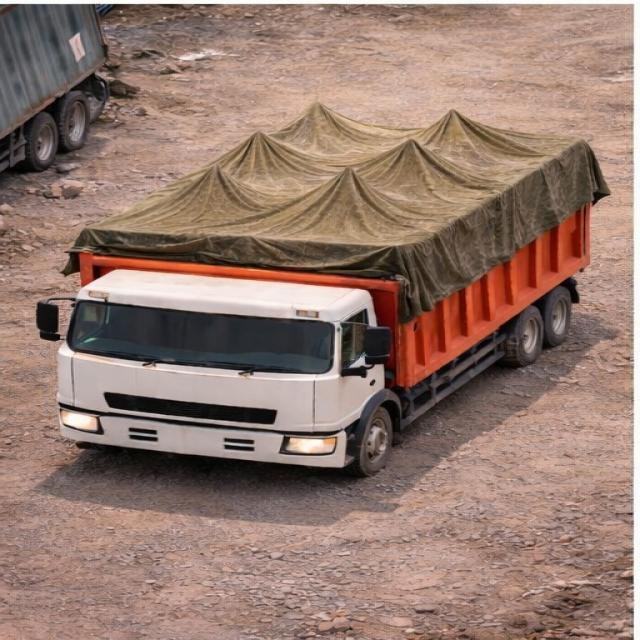Box: (67, 105, 605, 273)
Truck: (35, 97, 618, 471)
